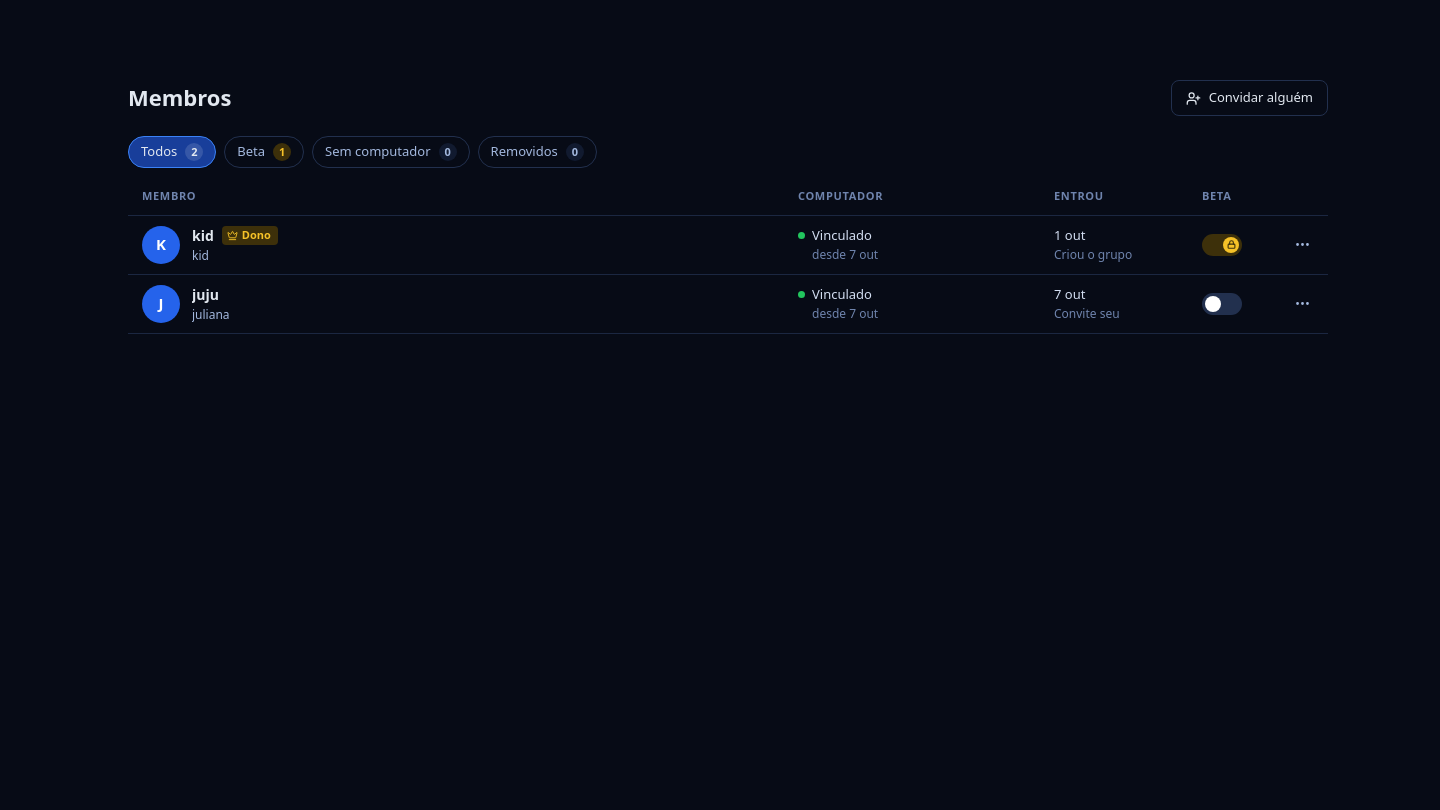
Test: ações do membro › desvincula e já cria a recuperação, nas duas chamadas em sequência
The image size is (1440, 810).
Click the button named "Mais ações para juju". click: click(1302, 304)
box: [1286, 288, 1318, 320]
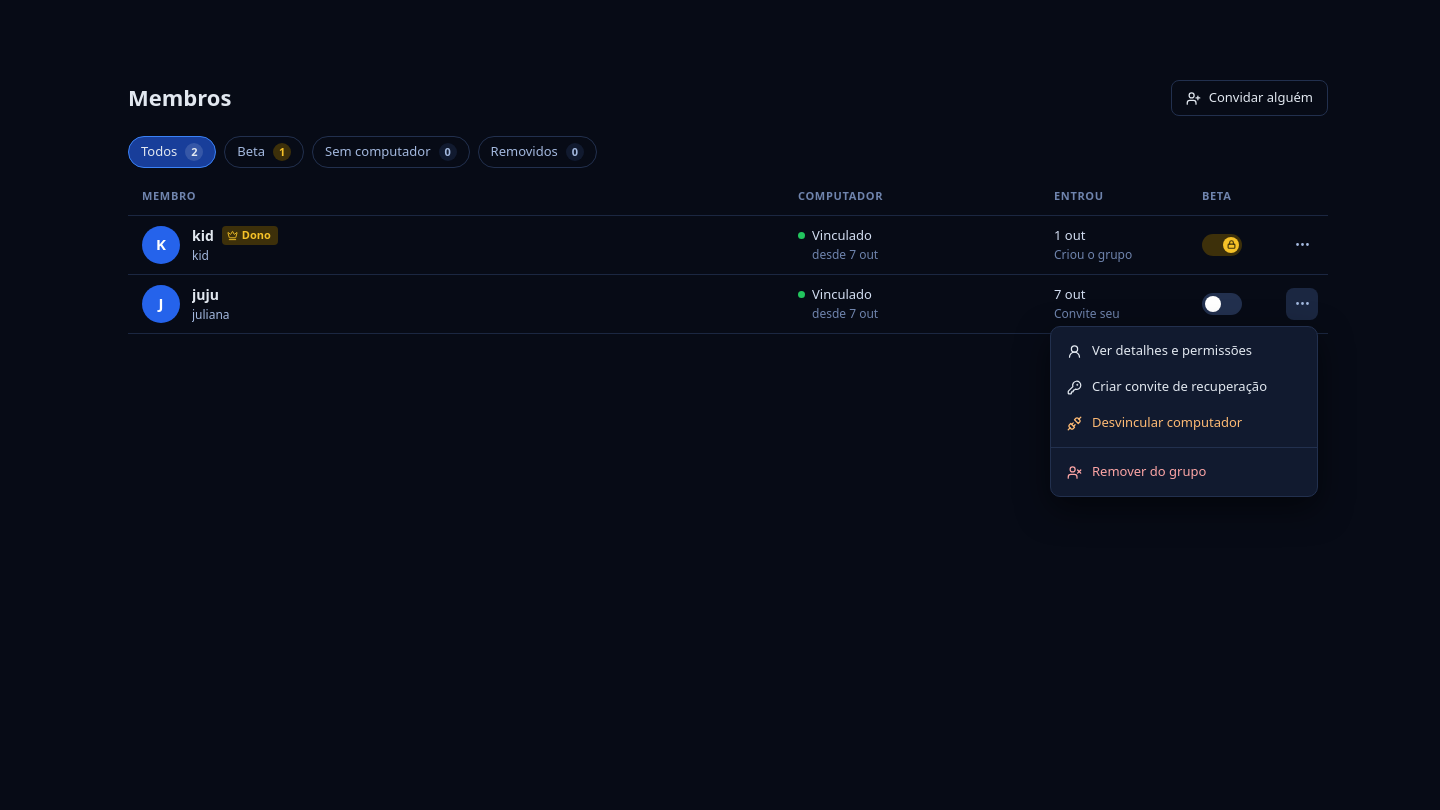
Click the menu item "Desvincular computador". click: click(1155, 422)
box: [1067, 413, 1242, 431]
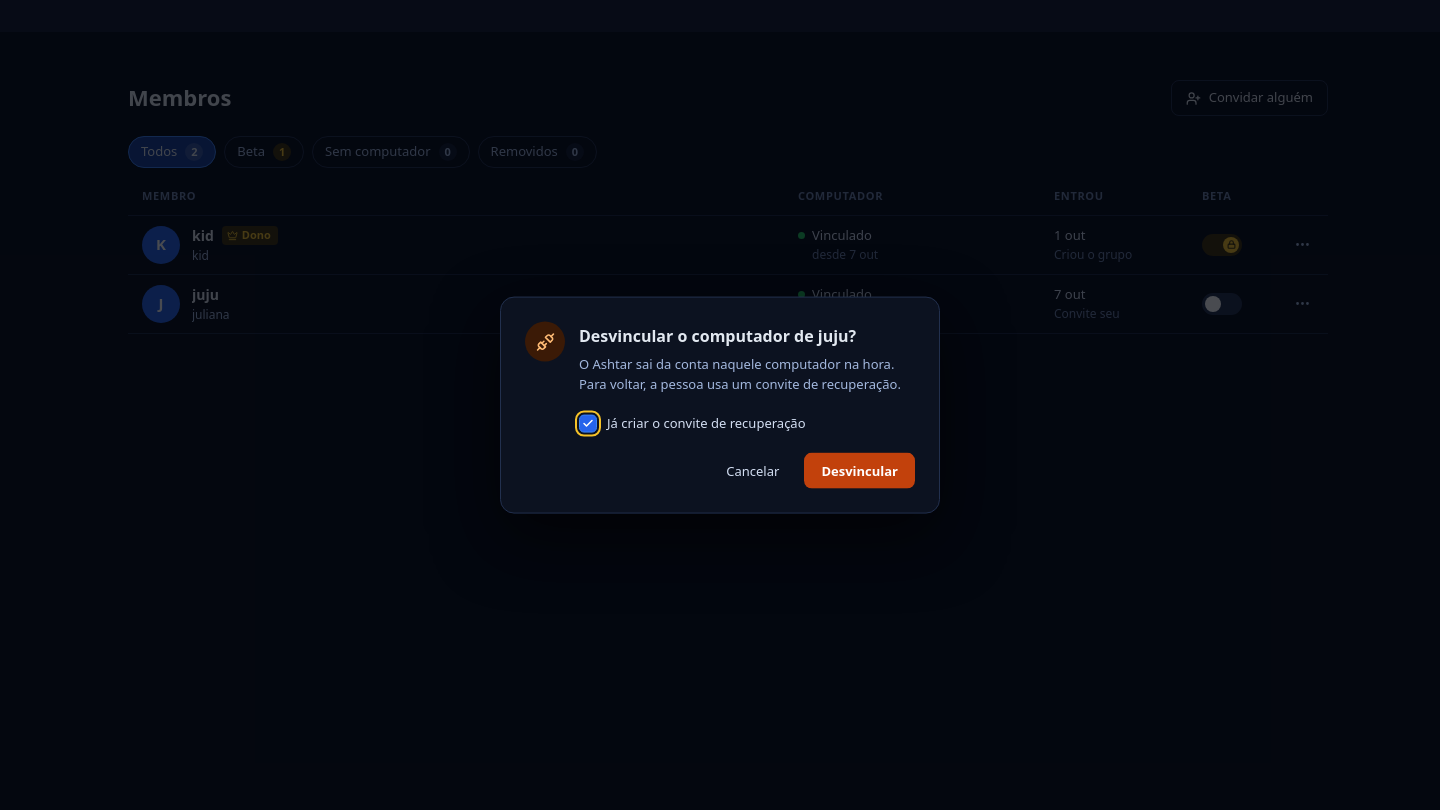
Now the checkbox named "Já criar o convite de recuperação" is checked, box [579, 414, 597, 432]
Click the button "Desvincular". click: click(860, 470)
box: [804, 452, 915, 488]
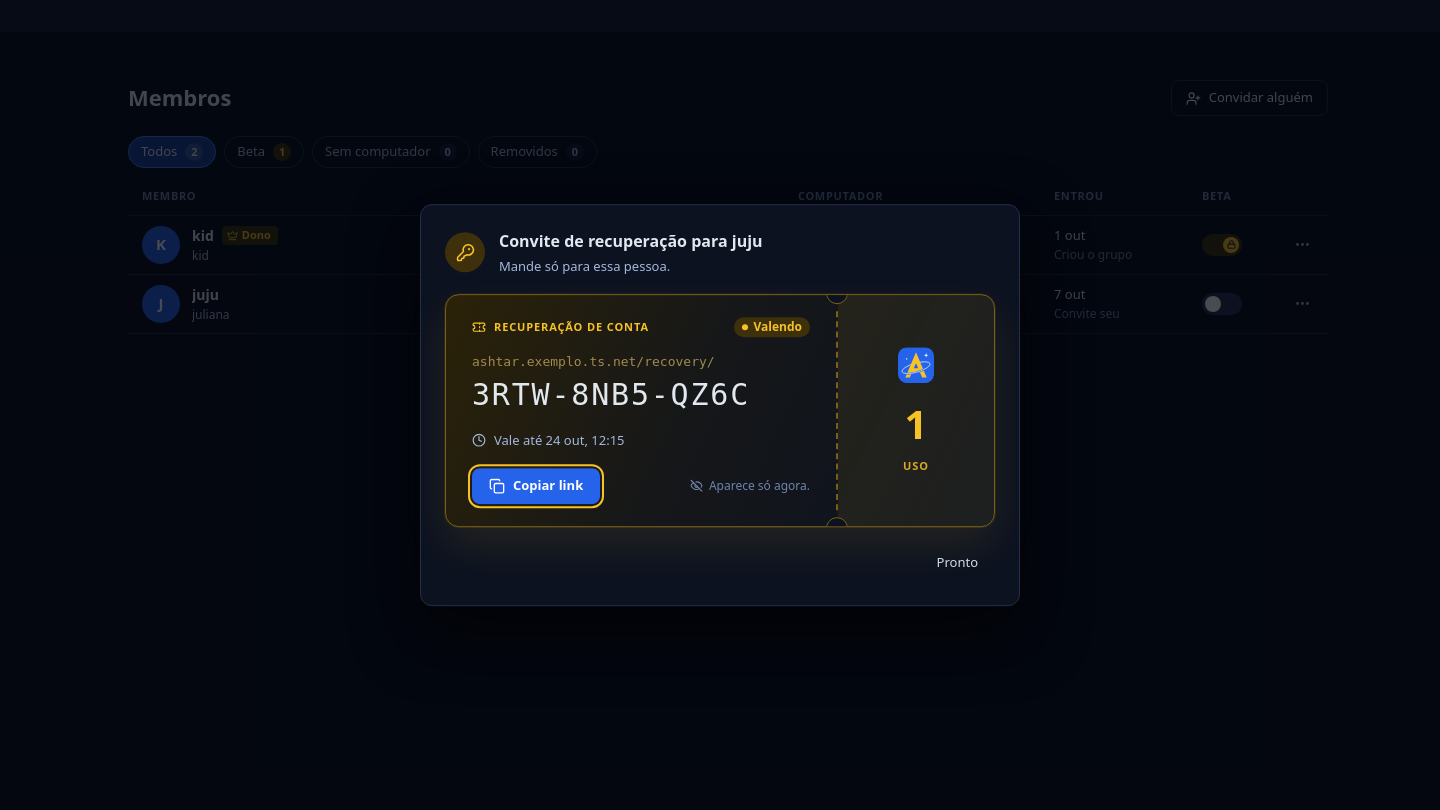
Now the text "3RTW-8NB5-QZ6C" is shown, box [472, 377, 750, 412]
Now the heading "Convite de recuperação para juju" is shown, box [499, 229, 762, 253]
